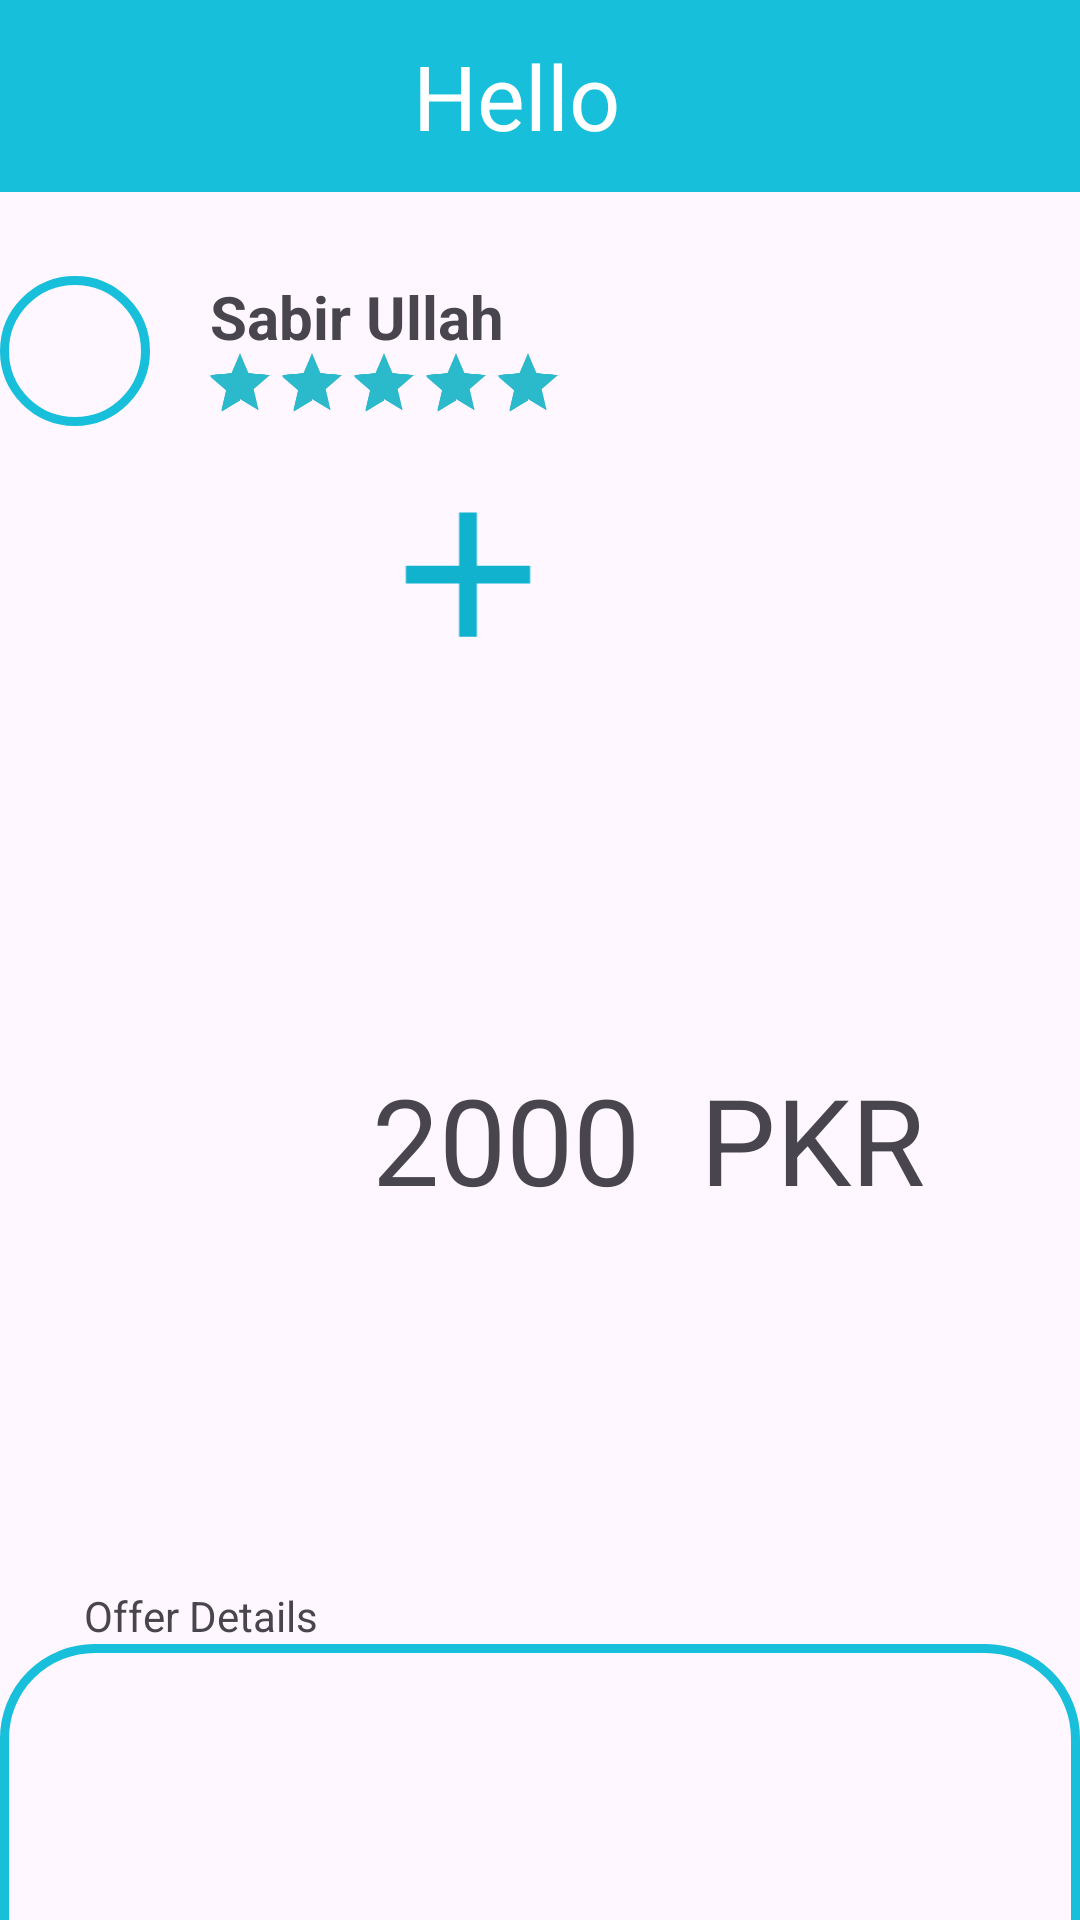

Screen size 1080 x 1920. Icon name, then its box in pixels as (x1, y1, x2, y2):
add: (405, 512, 531, 637)
